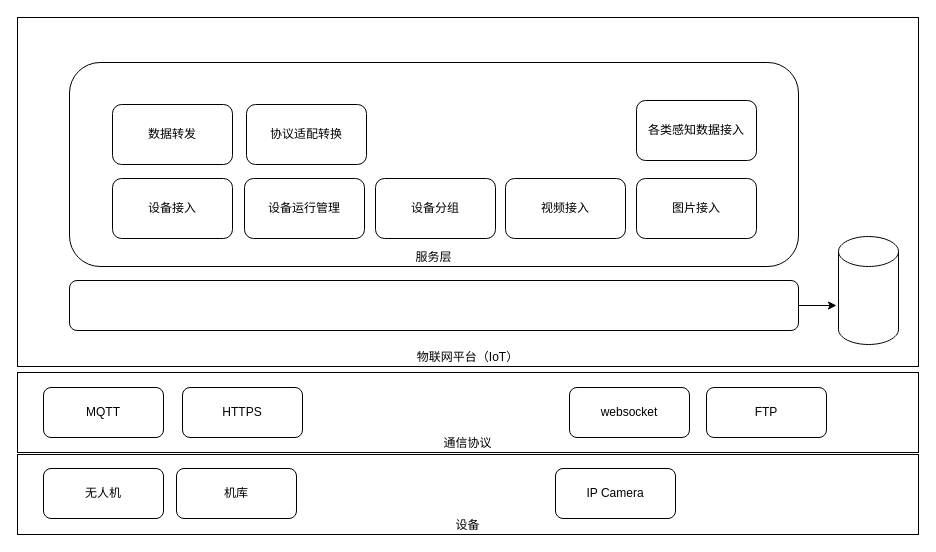
Some shapes in this 936 by 552 pixel diagram are drawn without their labels. Here are the shapes that lost their labels. From the top down, the centre of each, then its label:
point (433, 305): 设备网关/适配器
point (868, 290): 数据持久化
